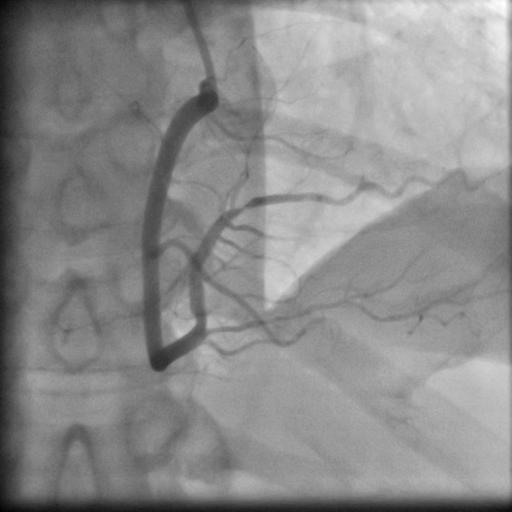Stenosis: (226, 195, 262, 224)
